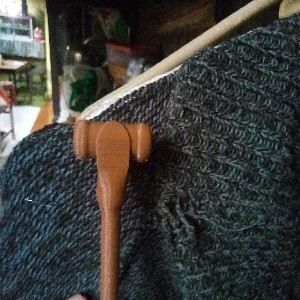palu: (71, 120, 152, 300)
